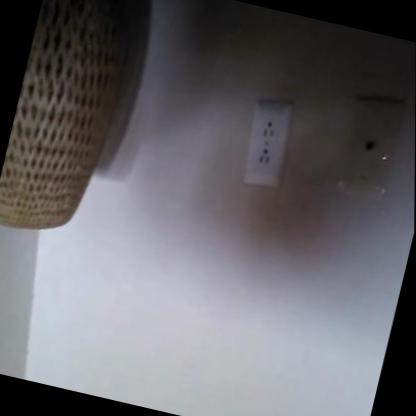OUTLET: (239, 96, 298, 190)
